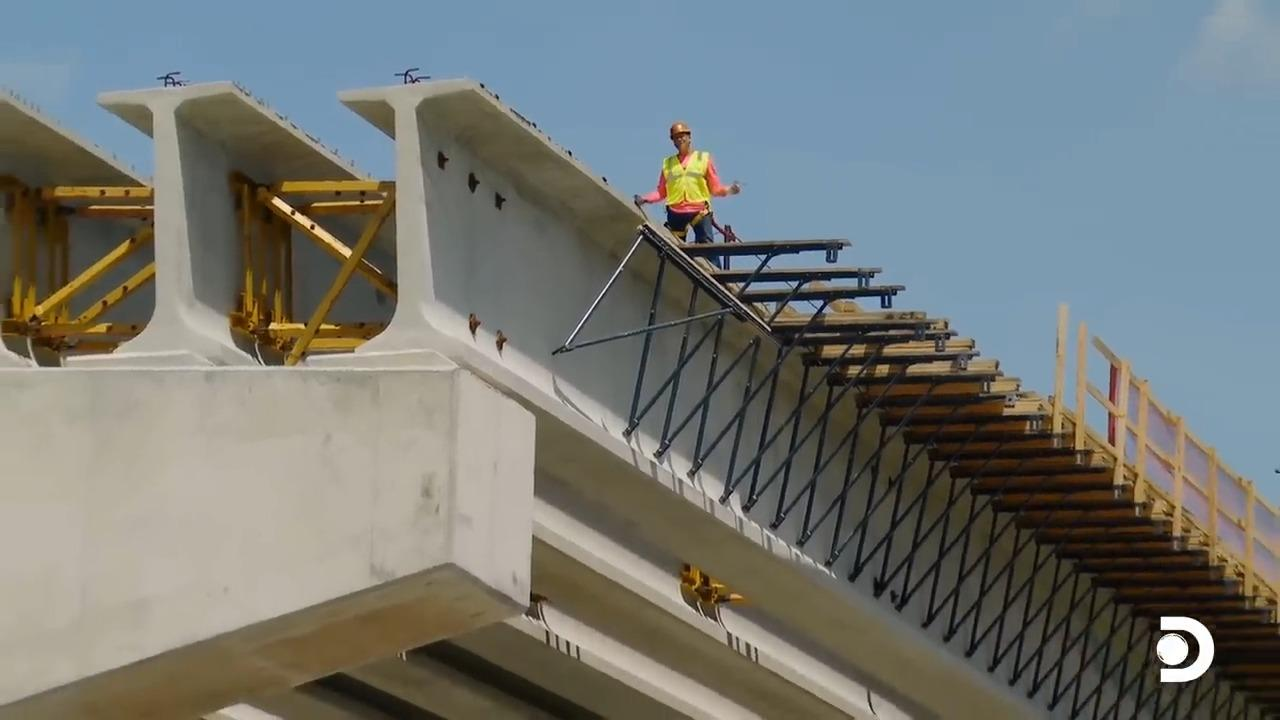Gloves: (726, 180, 741, 201), (636, 194, 644, 207)
Helmet: (669, 121, 691, 138)
Person: (633, 121, 741, 271)
Safety Vest: (665, 160, 712, 209)
